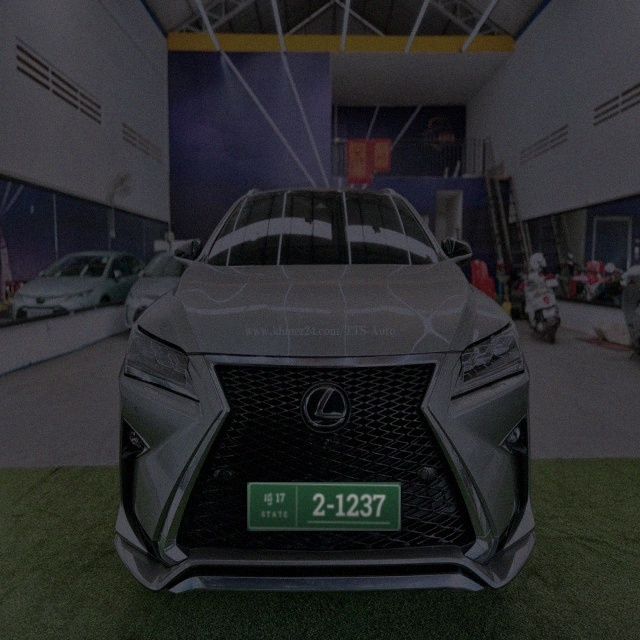Plate Number: (247, 482, 402, 531)
